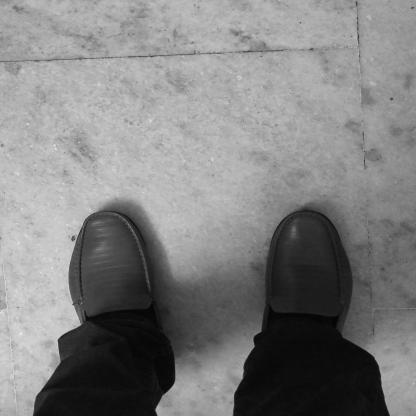ankle: (290, 321, 294, 323), (139, 320, 142, 321)
heel: (161, 352, 165, 355), (266, 340, 269, 342)
left_foot: (68, 212, 167, 357)
pinky: (84, 227, 89, 230), (331, 227, 334, 230)
right_foot: (261, 211, 354, 351)
toe: (123, 219, 127, 222), (287, 223, 290, 225)
